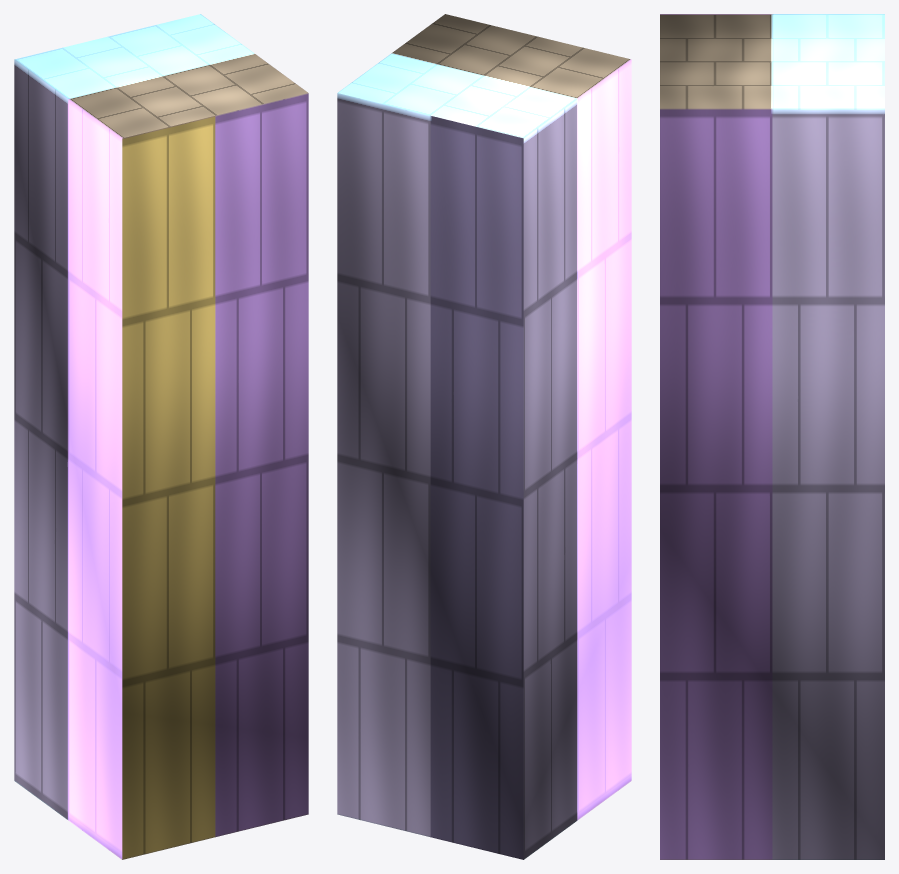
Rendered from torch_stand.glb.
The picture shows the model from 3 angles, left to right: view 1: azimuth 30°, elevation 25°; view 2: azimuth 150°, elevation 25°; view 3: azimuth 270°, elevation 25°; orthographic projection. The views are drawn at different scales.
Visible parts, largest first — view 1: col; view 2: col; view 3: col.
Part boxes in pixels (box(x1,y1,x2,y2)): col: box(14, 14, 308, 859); col: box(337, 14, 631, 859); col: box(660, 14, 884, 859).
Size of the model in its own units: 0.575 by 2.13 by 0.5765.
Materials: 1 (1 with a texture image).
